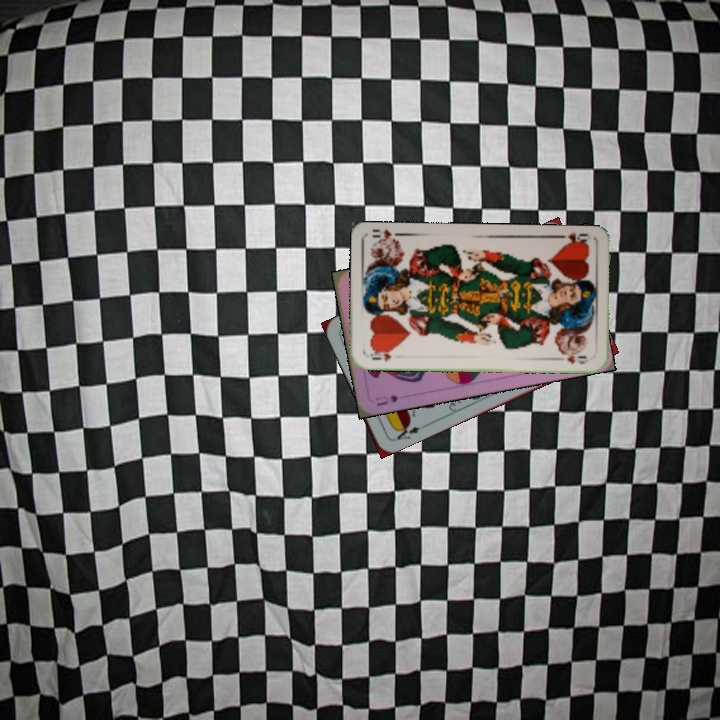EA: (389, 419, 423, 444)
HO: (554, 229, 593, 248), (364, 346, 395, 364)
SU: (371, 391, 401, 409)
